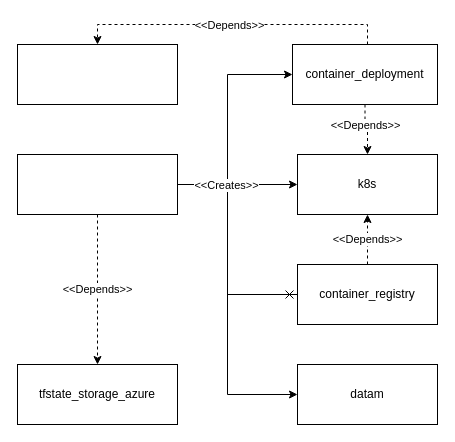
Image size: 455x442. Some labels were removed from this diagram. The centre of each missing label's shape, as x and y in pixels:
"Root module" belongs at [97,184].
"storage_rg" belongs at [97,74].
